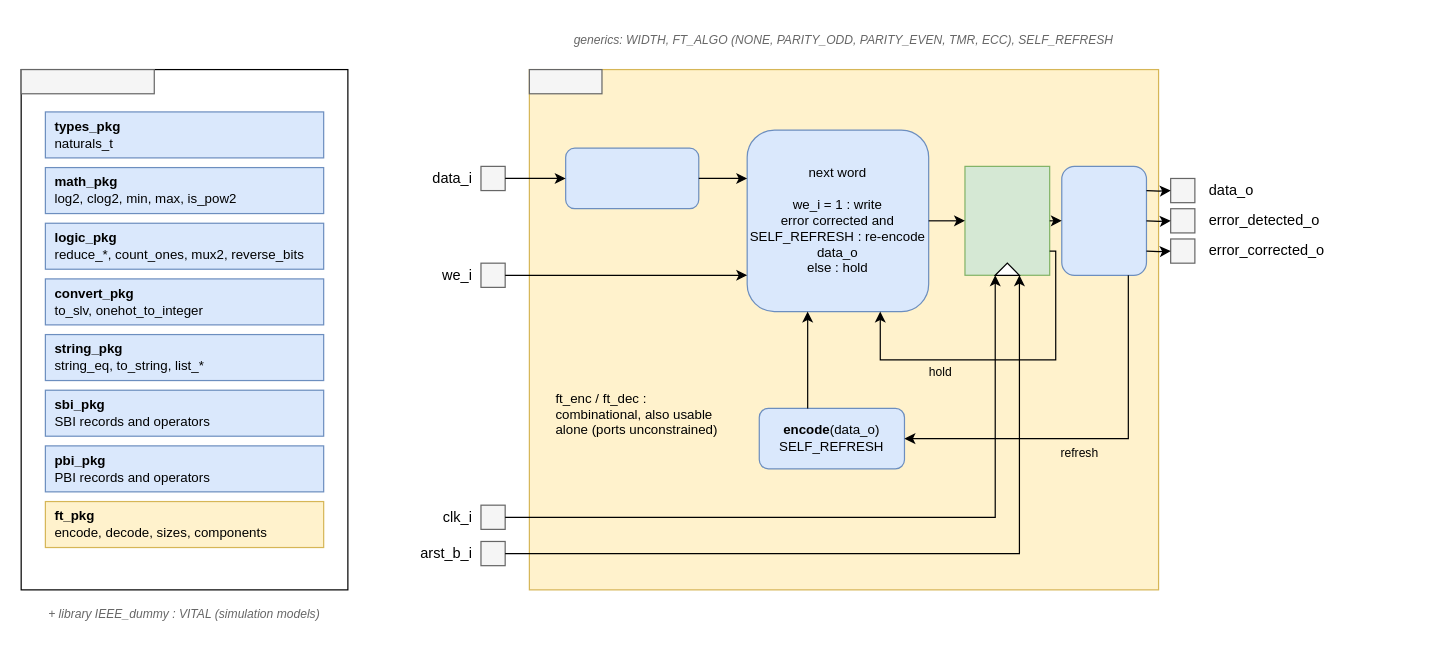
Some shapes in this 1434 by 646 pixel diagram are drawn without their labels. The shapes that lost their labels are listed below. From the top down, each one's centre as x and y in pixels, then its label:
At (87,81): "library asylum".
At (565,81): "ft_dff".
At (631,178): "ft_enc encode(data_i)".
At (1007,220): "data_enc_r WIDTH_ENC bits".
At (1103,220): "ft_dec decode".
